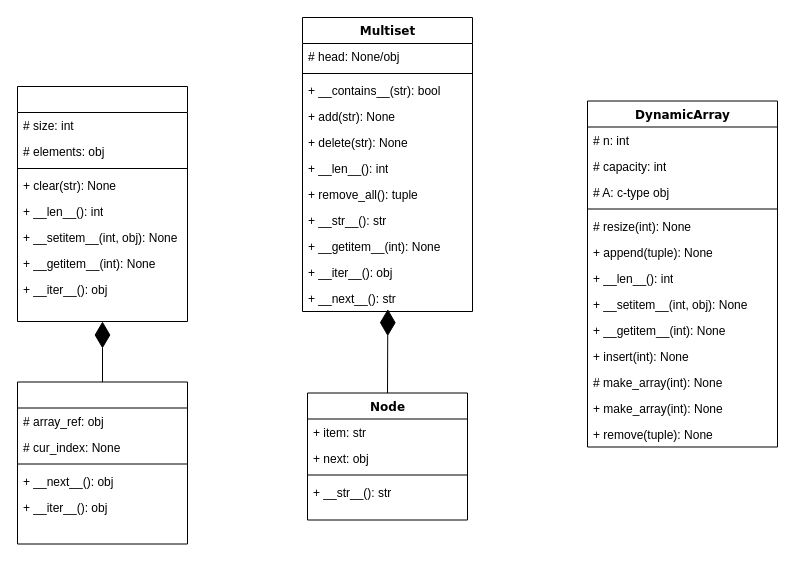
This 795x562 diagram has some shape labels left out. The shapes that lost their labels are listed below. From the top down, each one's box as (x1, y1, x2, y2) in pixels, then its label:
(16, 86, 188, 322): Array
(16, 381, 188, 544): #ArrayIterator
